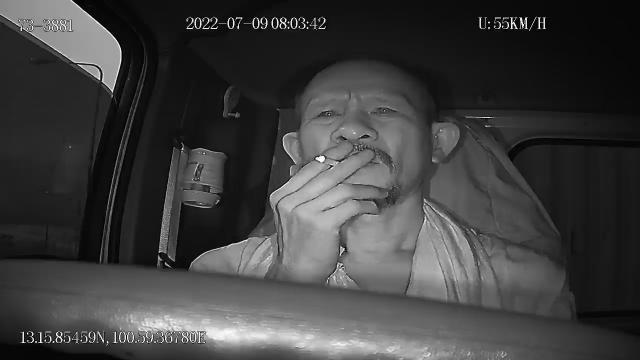SafeDriving: (362, 96, 408, 124), (306, 98, 346, 127)
Smoking: (314, 155, 342, 167)
